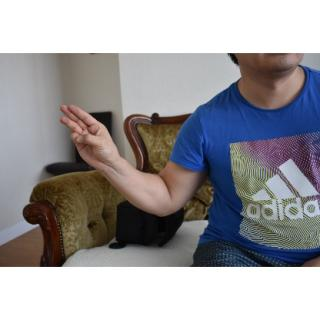THA: (58, 100, 122, 173)
